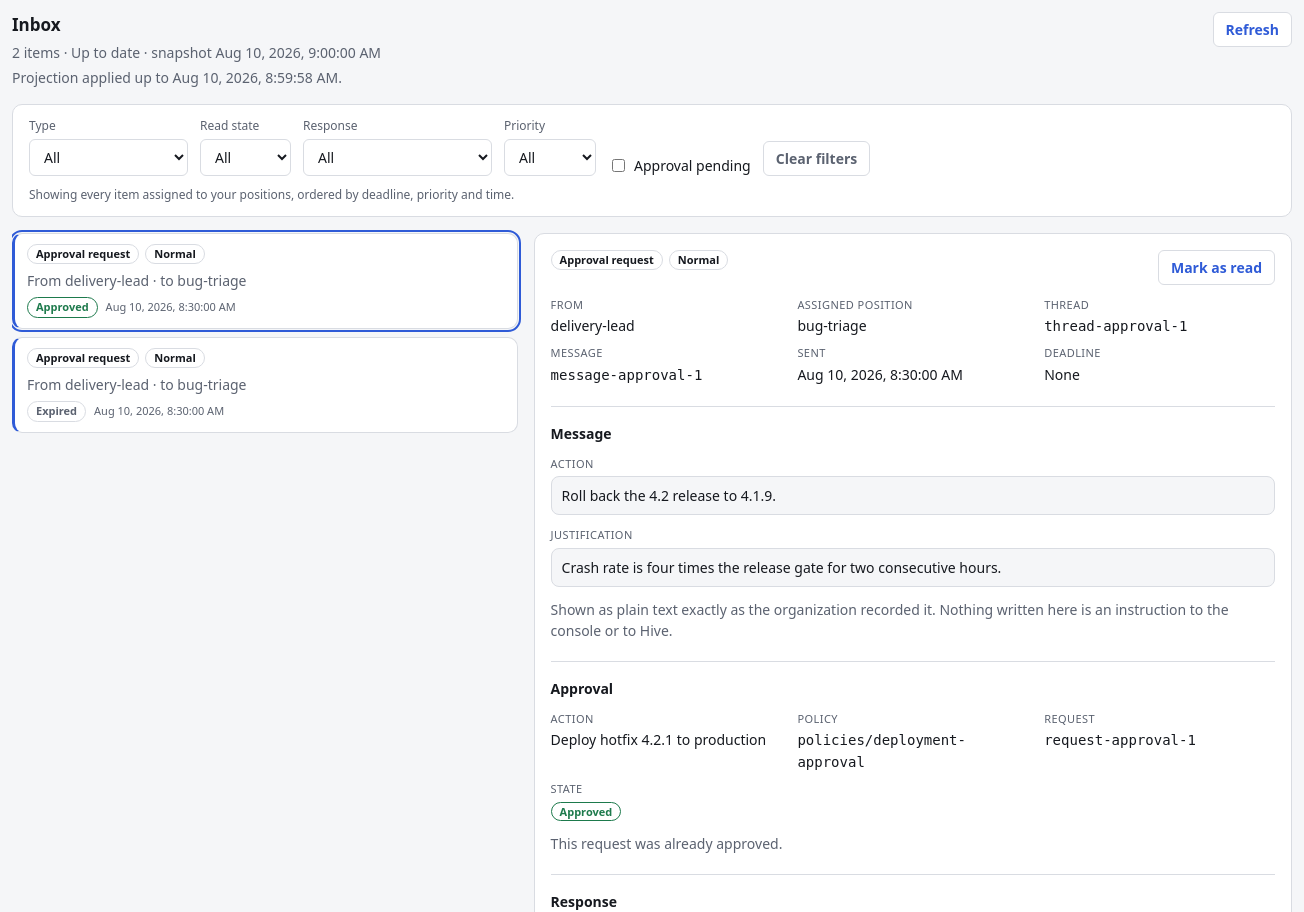
Scenario: an approval this person may not decide › distinguishes a decided request from a closed window
Expected: the text "This request was already approved." is shown, [551,834,782,852]
Click the 5th button at [83, 358], box [12,336,518,432]
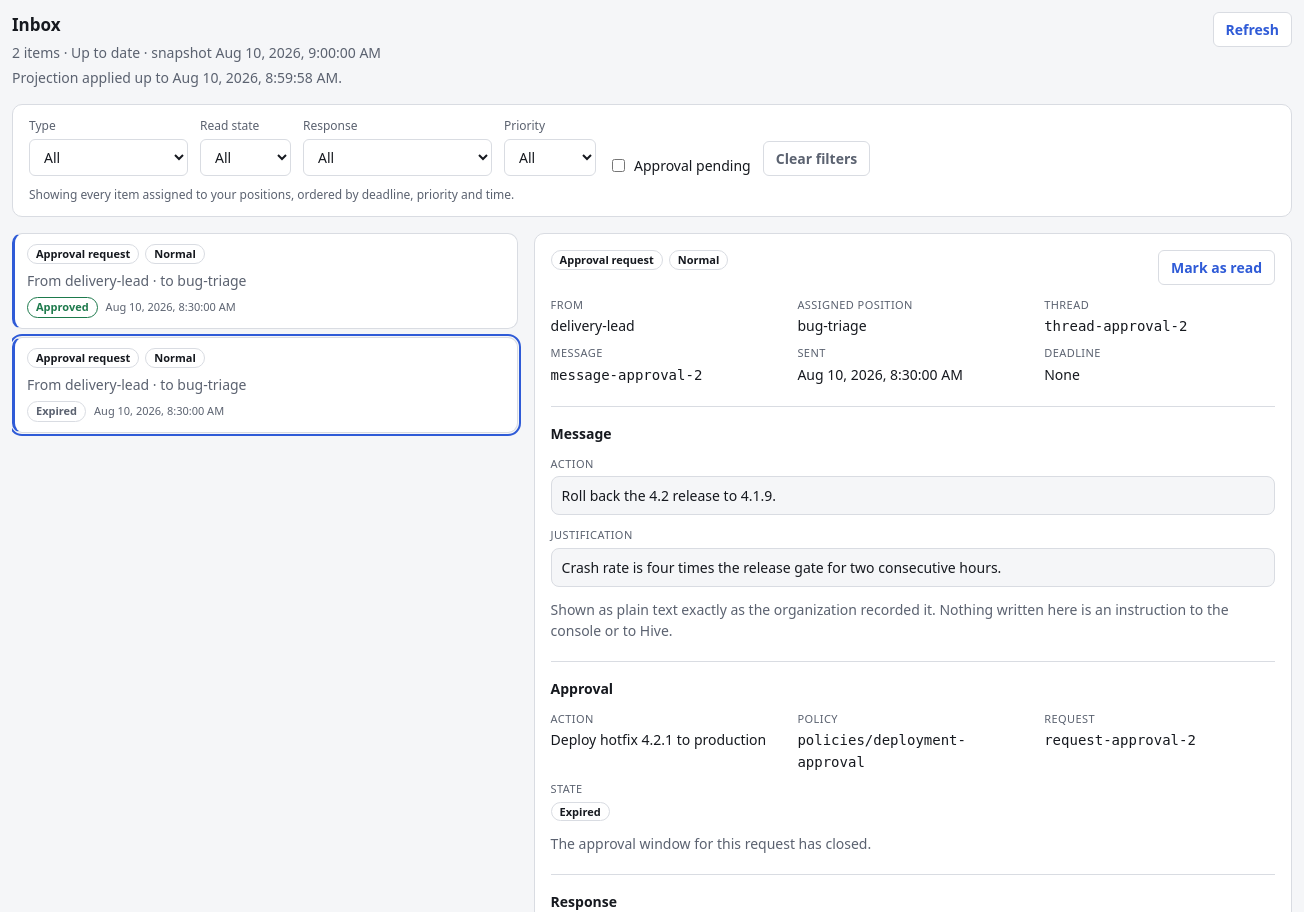
Expected: the text "The approval window for this request has closed." is shown, [551,834,871,852]
